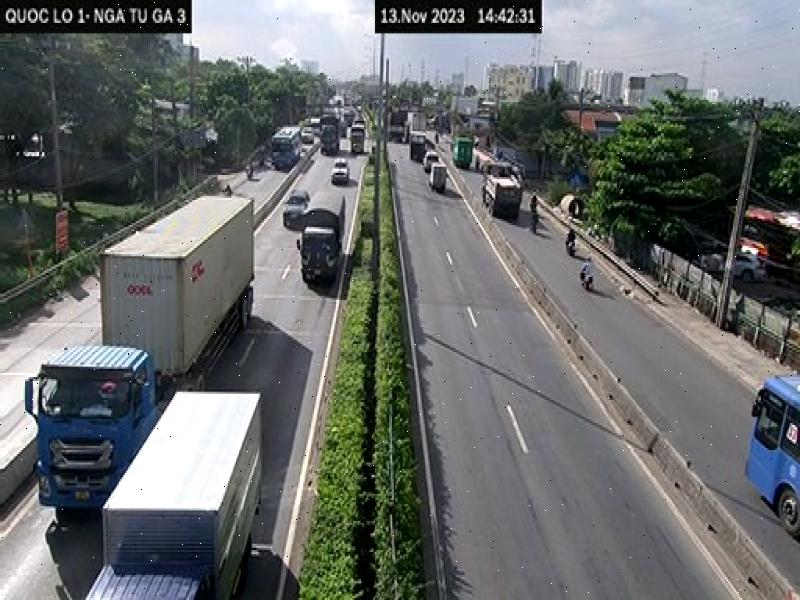truck: (24, 181, 255, 528), (84, 388, 268, 600), (297, 190, 347, 292)
